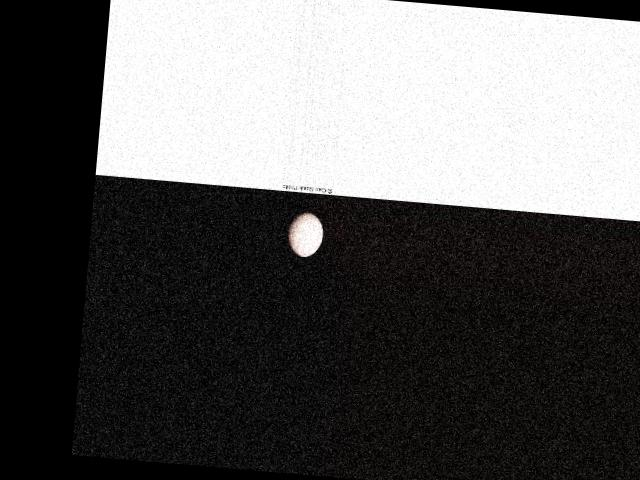egg: (286, 209, 324, 258)
